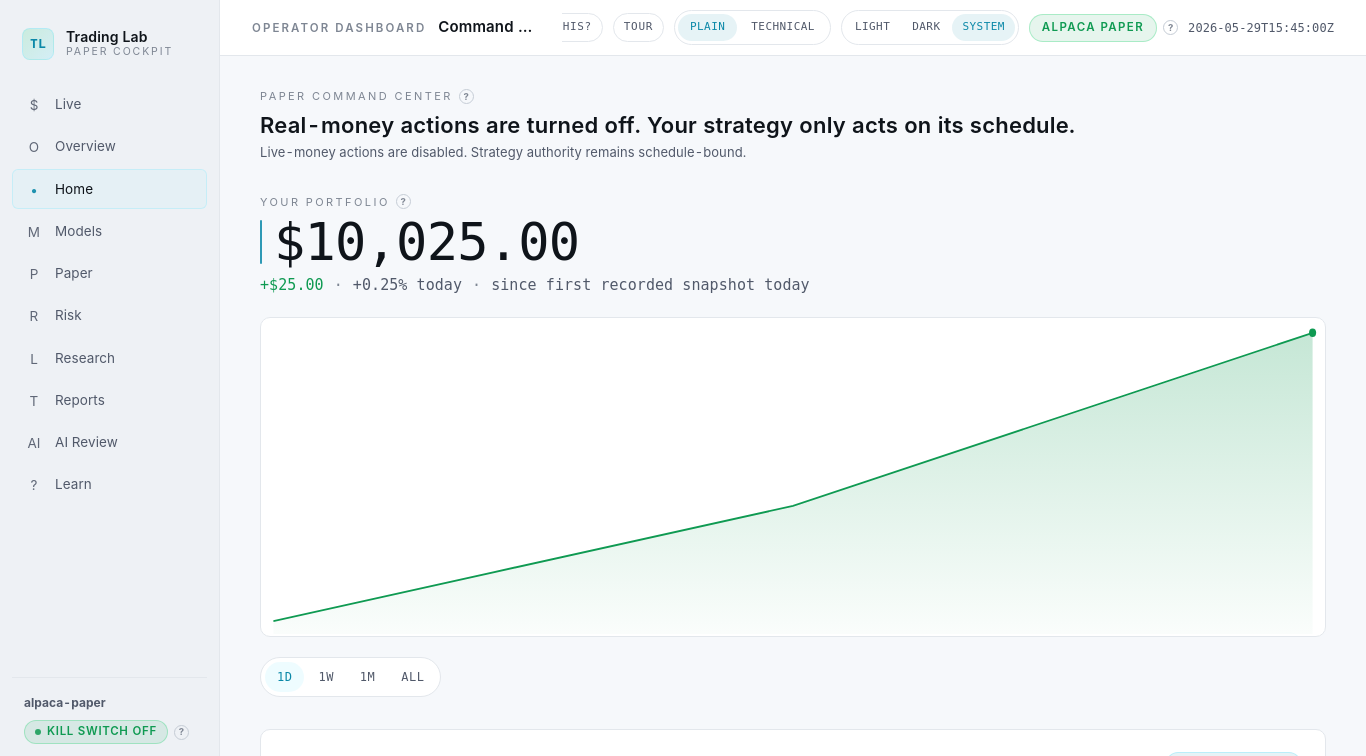
Test case: DashboardClient › expands the equity window when switching to a longer period
The image size is (1366, 756).
Expected: the text "+0.25% today" is shown, [353,274,462,297]
Click the button "1W": (326, 677) [306,662,346,692]
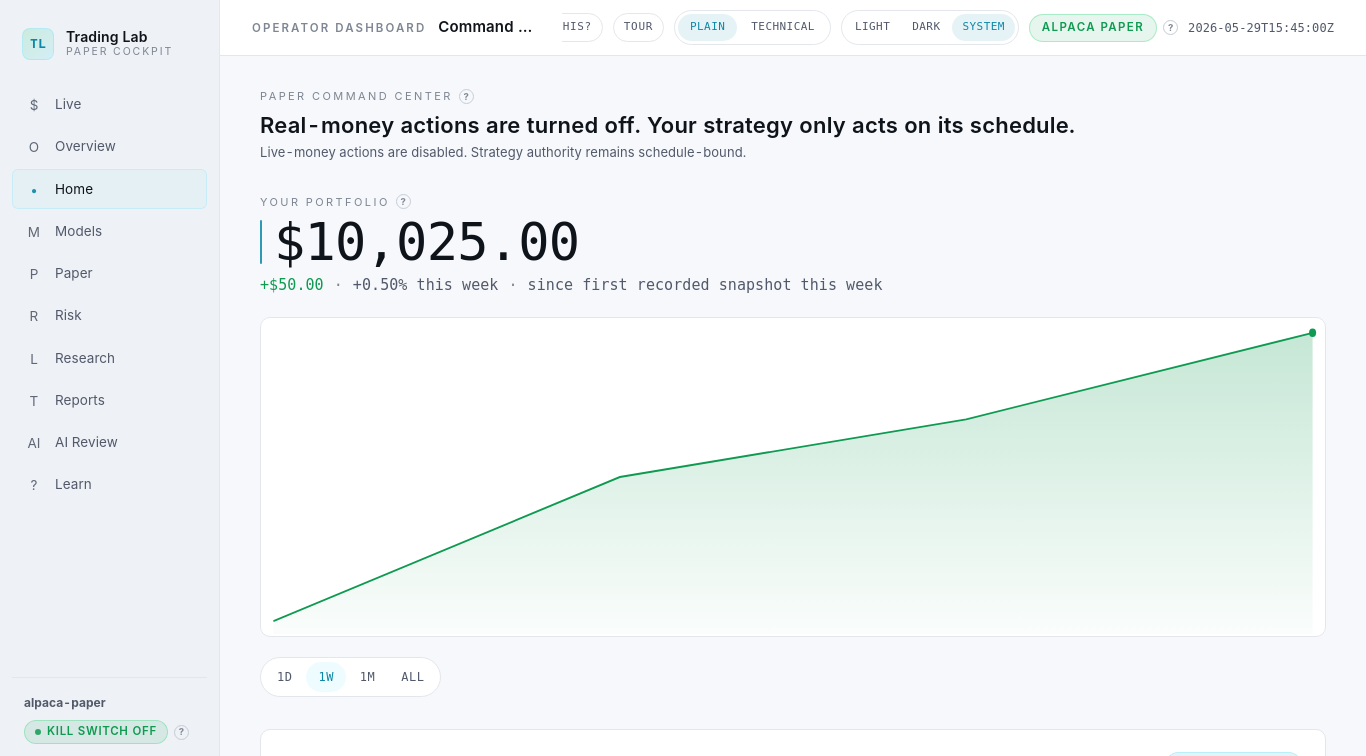
Result: the text "+0.50% this week" is shown at [353,274,498,297]
Result: the text "since first recorded snapshot this week" is shown at [528,274,882,297]
